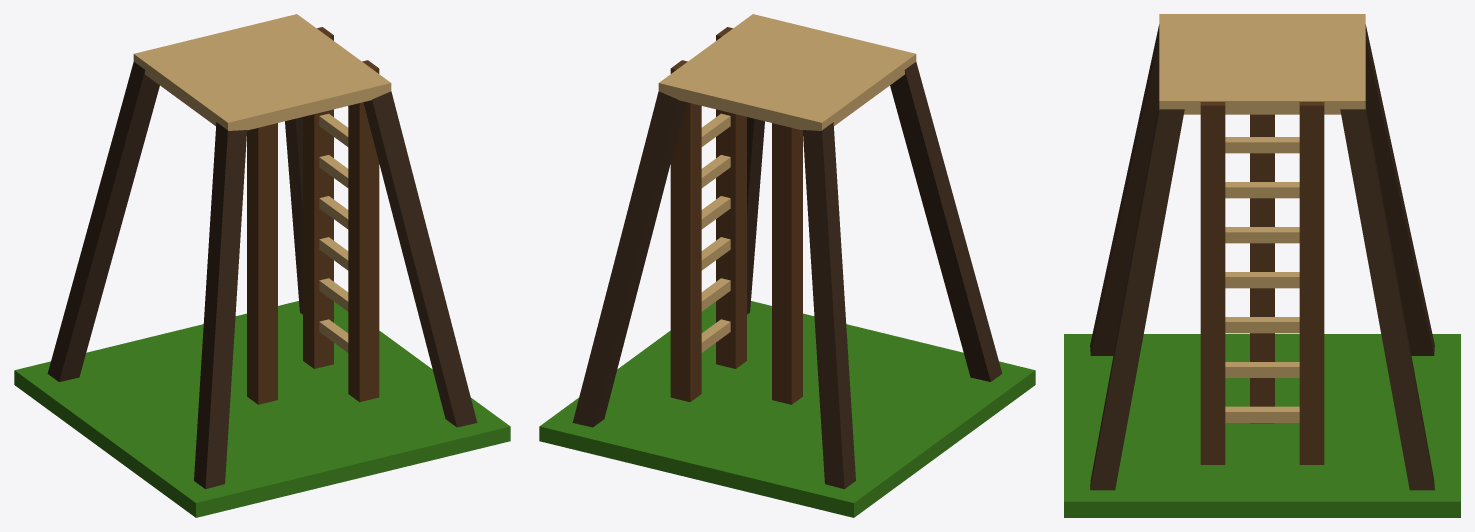
The model's file is lvl2.glb.
3 renders of one model, left to right at view 1: azimuth 30°, elevation 25°; view 2: azimuth 150°, elevation 25°; view 3: azimuth 270°, elevation 25°, orthographic. The views are drawn at different scales.
Parts seen in each view (by area): view 1: Plane.001; view 2: Plane.001; view 3: Plane.001.
Boxes of the visible parts, left/top/right/bottom form: Plane.001: left=14, top=14, right=510, bottom=517; Plane.001: left=539, top=14, right=1035, bottom=517; Plane.001: left=1064, top=14, right=1460, bottom=517.
Bounding box in the file's own units: 4 × 4.19 × 4.
